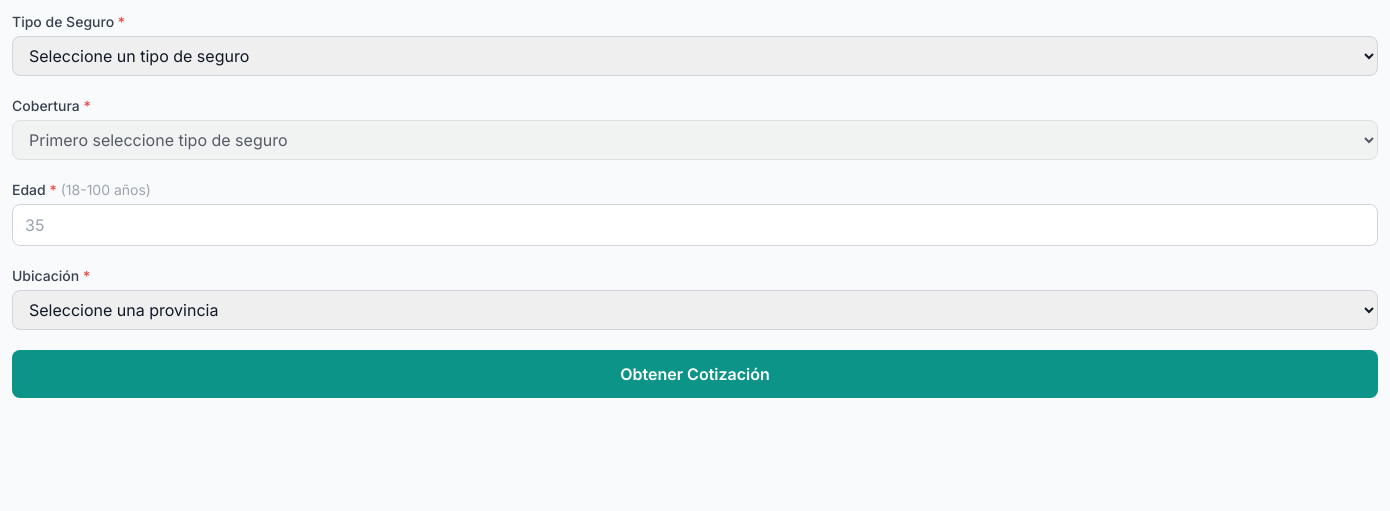
Scenario: QuoteForm › shows age validation error for out-of-range values
Step 1. Type "15" into the number field labelled "Edad *(18-100 años)" → (695,225), box [12,204,1378,246]
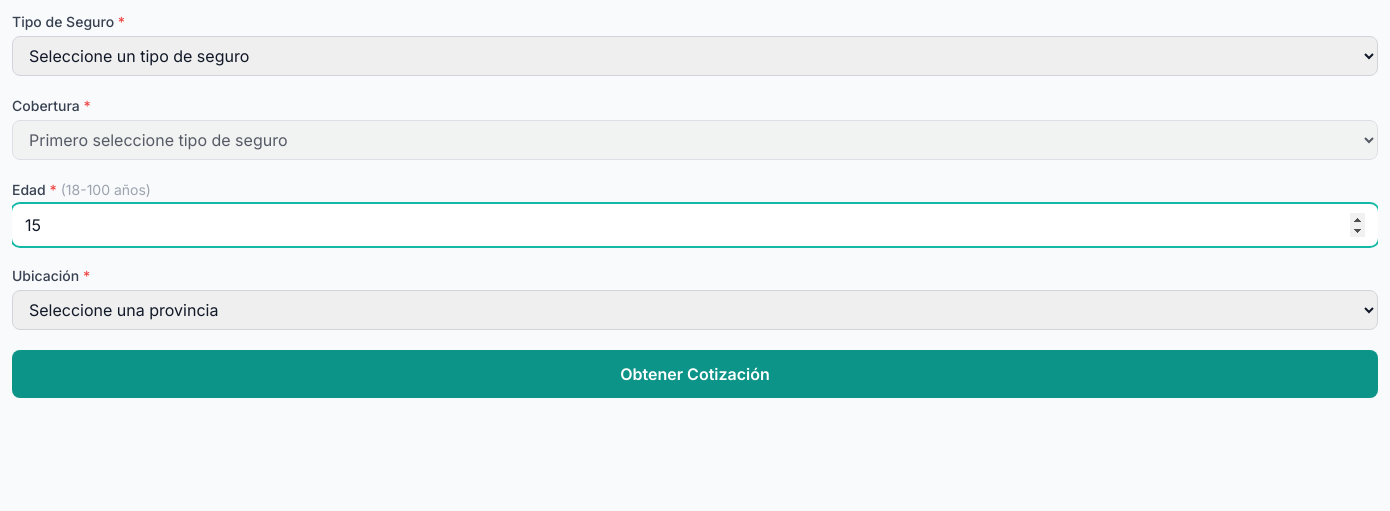
Step 2. Click the button "Obtener Cotización" → (695,374), box [12,350,1378,398]
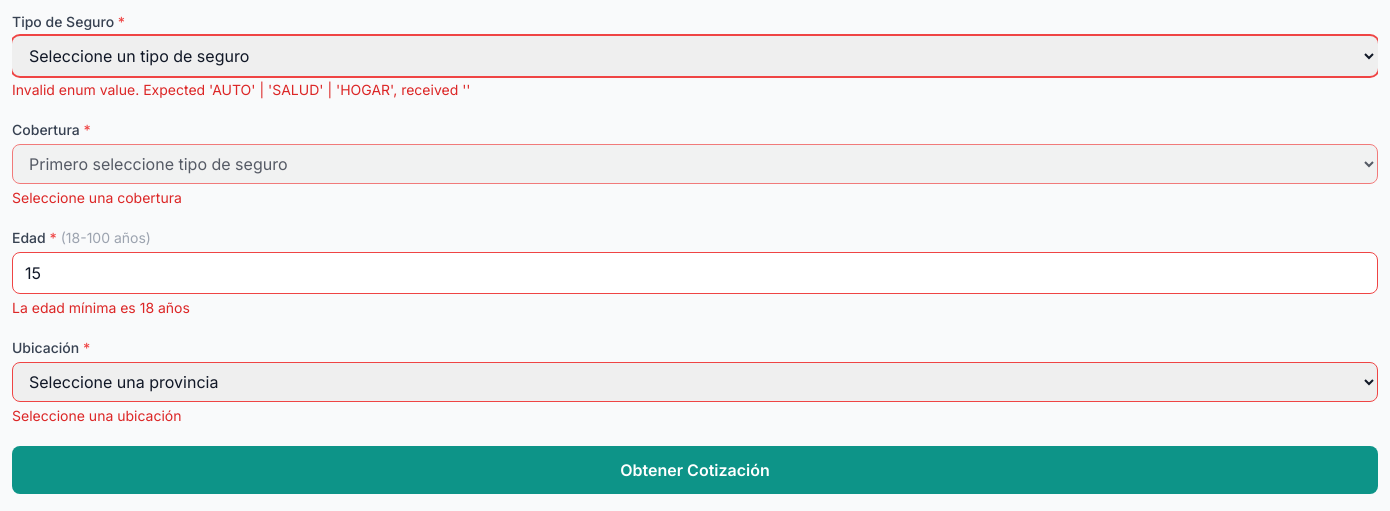
Expected: the text "La edad mínima es 18 años" is shown, [12,299,190,316]
